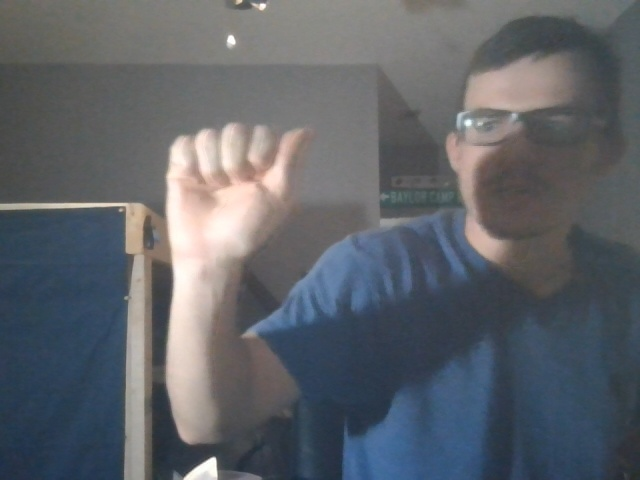A: (158, 120, 313, 267)
